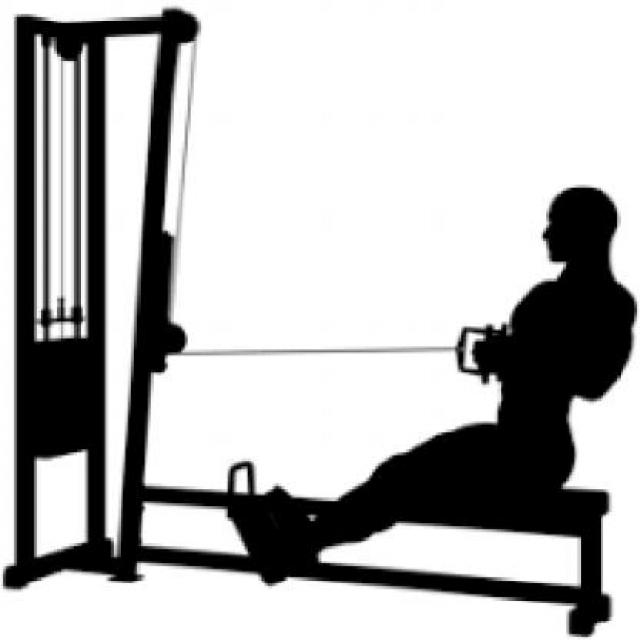Seated Cable Rows: (6, 3, 637, 640)
